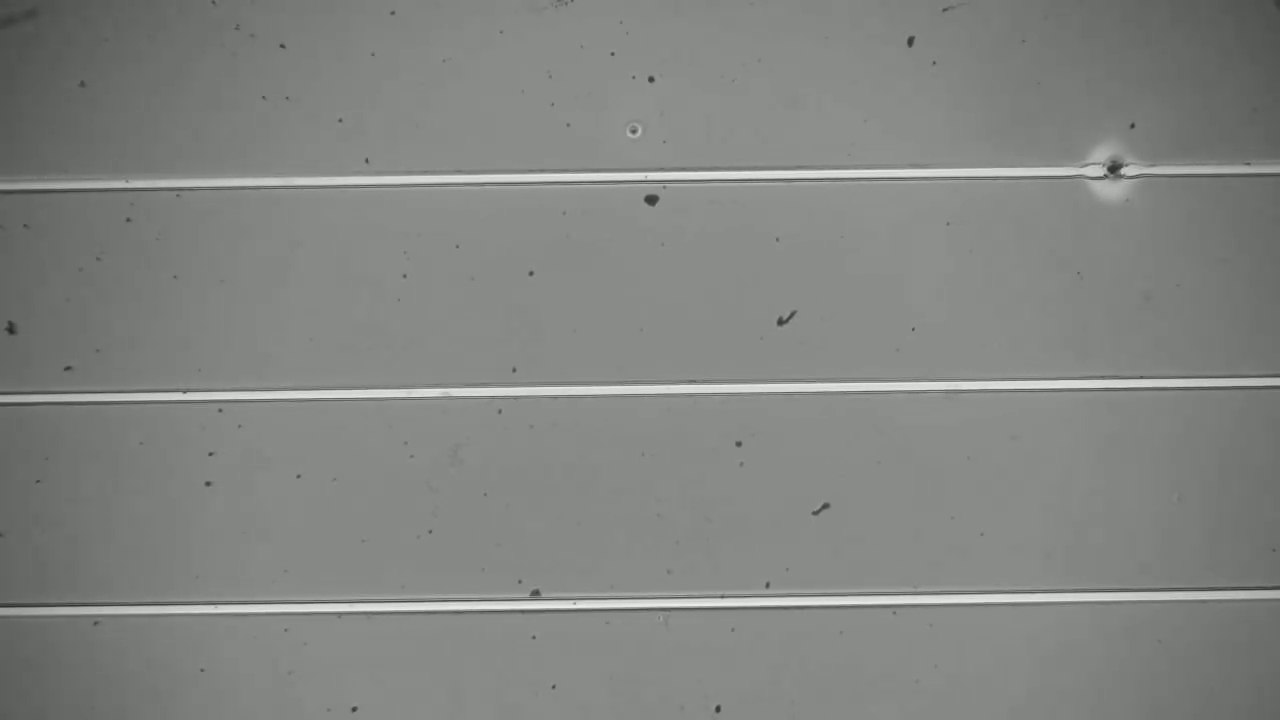stains_enbedded: (1092, 147, 1141, 196)
